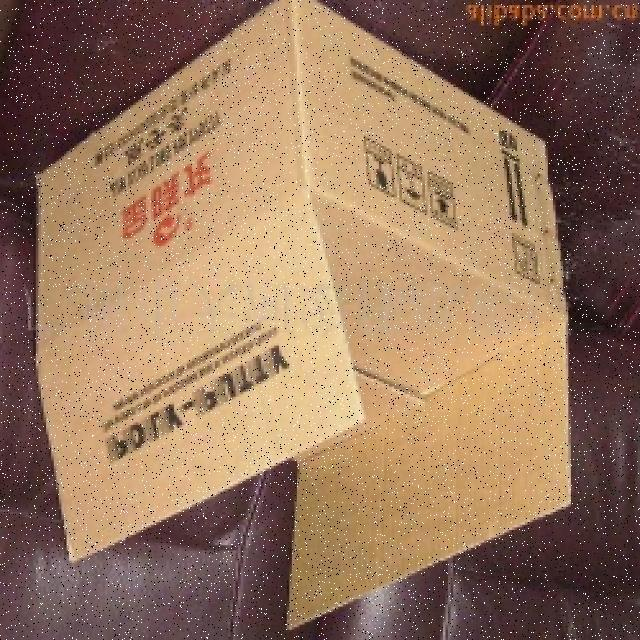box: (28, 0, 597, 622)
